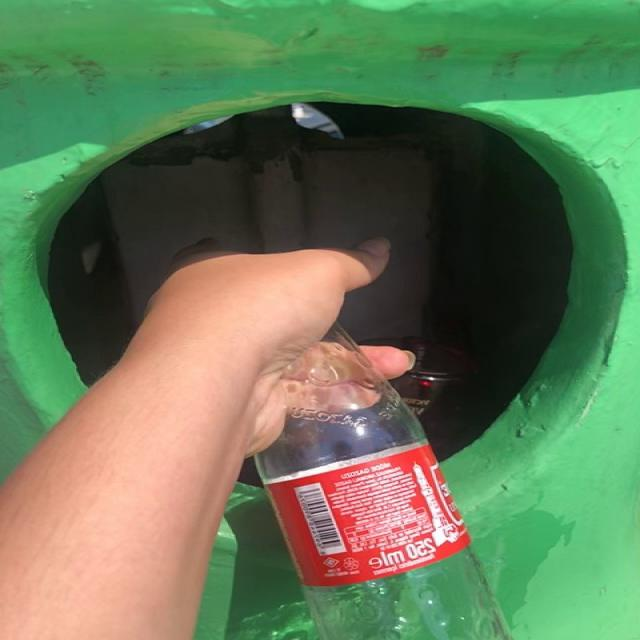glass: (256, 326, 511, 640)
